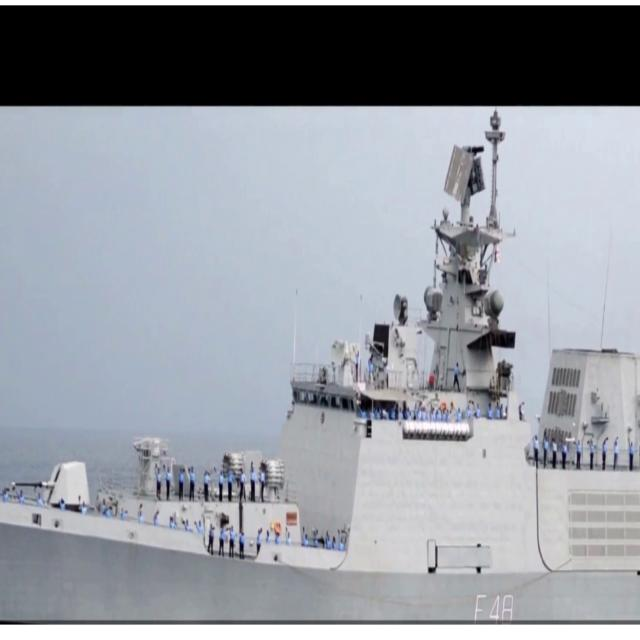OCR: (465, 586, 518, 623)
